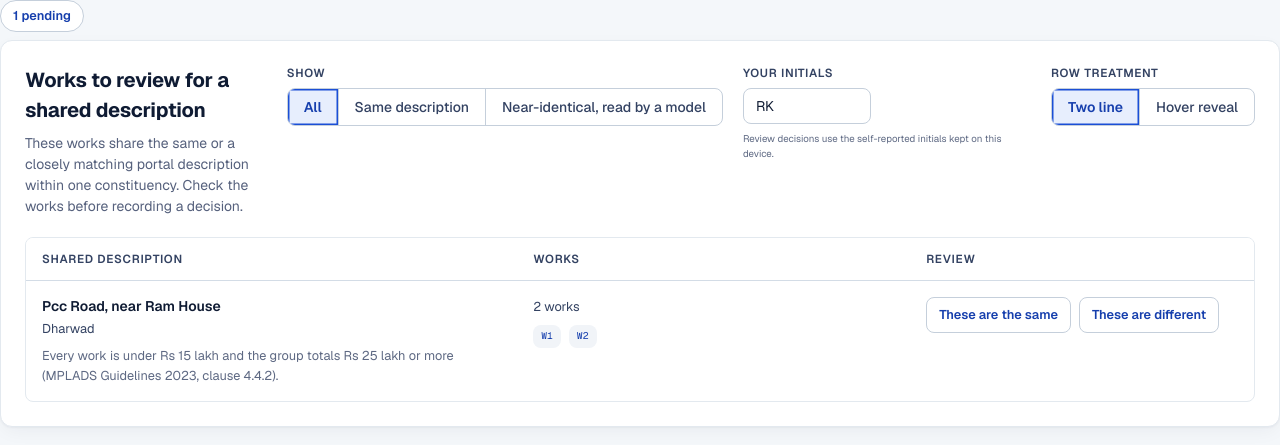
Test case: DuplicateReviewQueue › reports a failed decision as a save error without removing the row
What coordinates should you click on to do the following:
click the button "These are the same"
I would click on:
 (998, 315)
Its box is [926,297,1071,333].
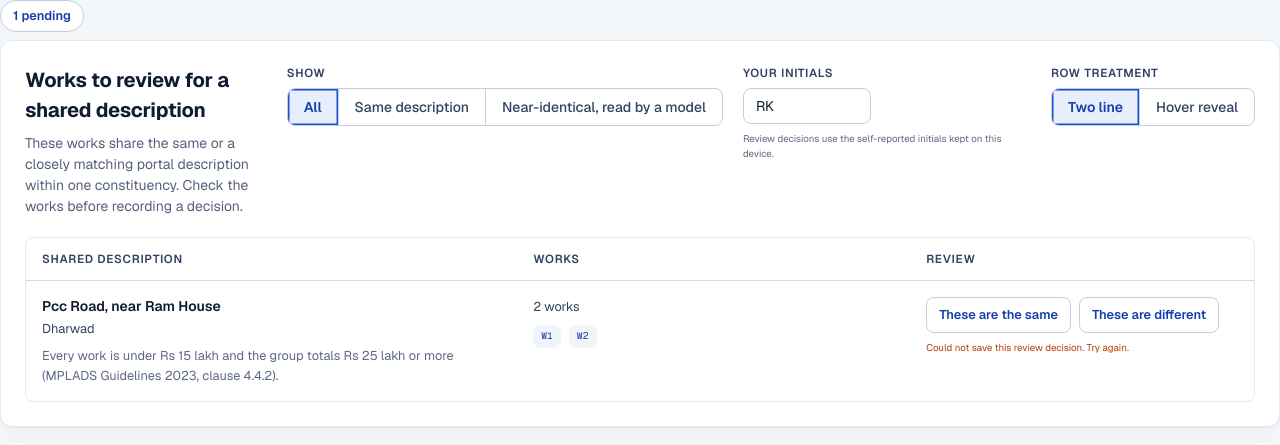
Expected: the text "Pcc Road, near Ram House" is shown, [42,297,221,315]
Now the message reads "Could not save this review decision. Try again.", box [926,341,1129,354]
